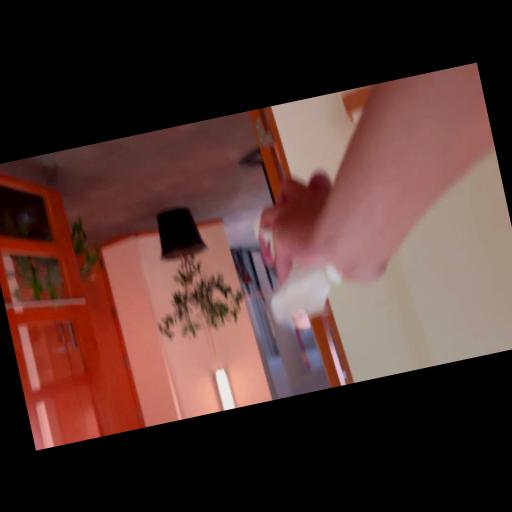napkin: (242, 187, 359, 331)
